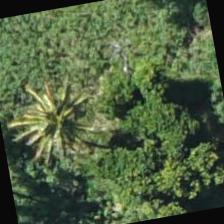Kelapa_Sawit: (0, 76, 98, 181)
